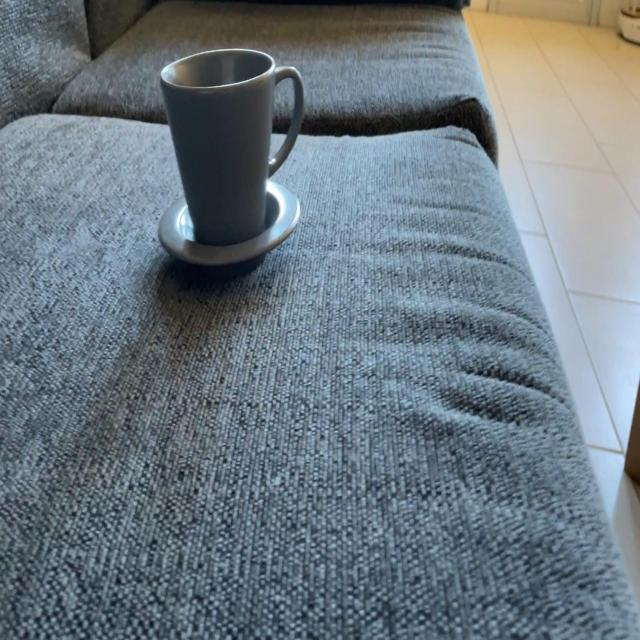cup: (158, 48, 304, 272)
